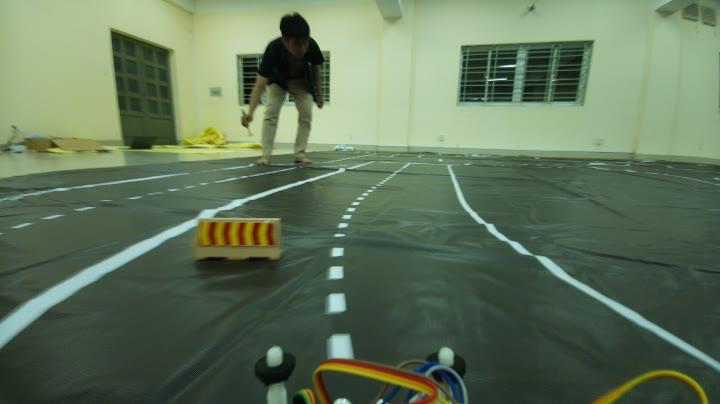roadblock: (195, 210, 286, 266)
